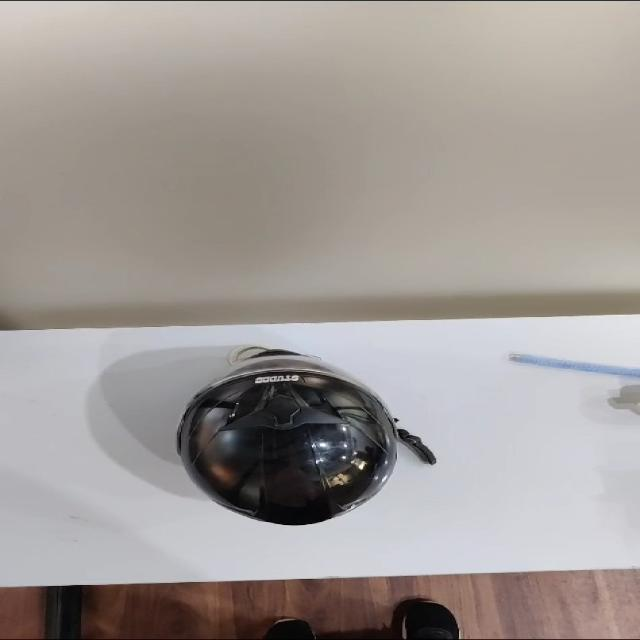helmet: (177, 346, 435, 523)
